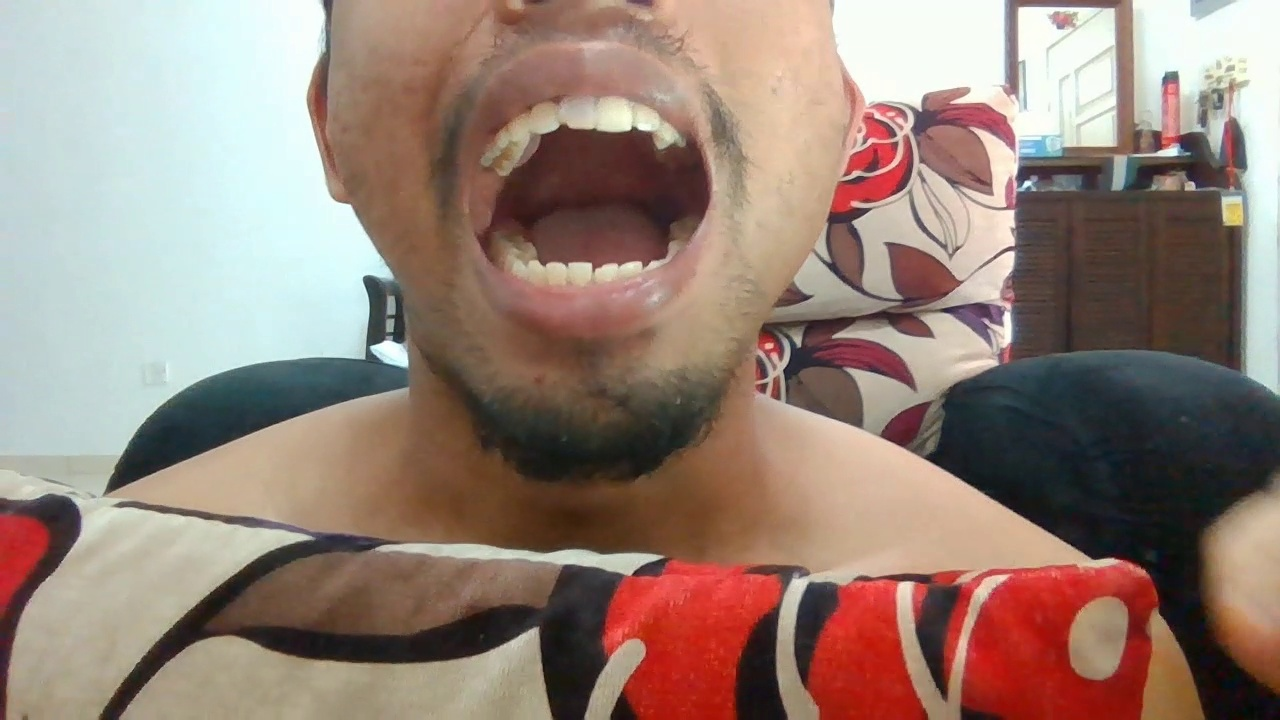1st Molar: (495, 244, 535, 254)
1st Premolar: (498, 129, 528, 149), (511, 257, 528, 282)
2nd Molar: (495, 237, 523, 244)
3rd Molar: (489, 229, 507, 236)
Canine: (509, 112, 530, 143), (655, 120, 680, 146), (528, 260, 547, 286)
Central Incisor: (559, 93, 598, 131), (598, 92, 634, 133), (568, 261, 593, 285), (593, 261, 619, 284)
Lateral Incisor: (527, 101, 558, 134), (634, 101, 663, 133), (547, 261, 567, 287), (619, 260, 641, 279)
